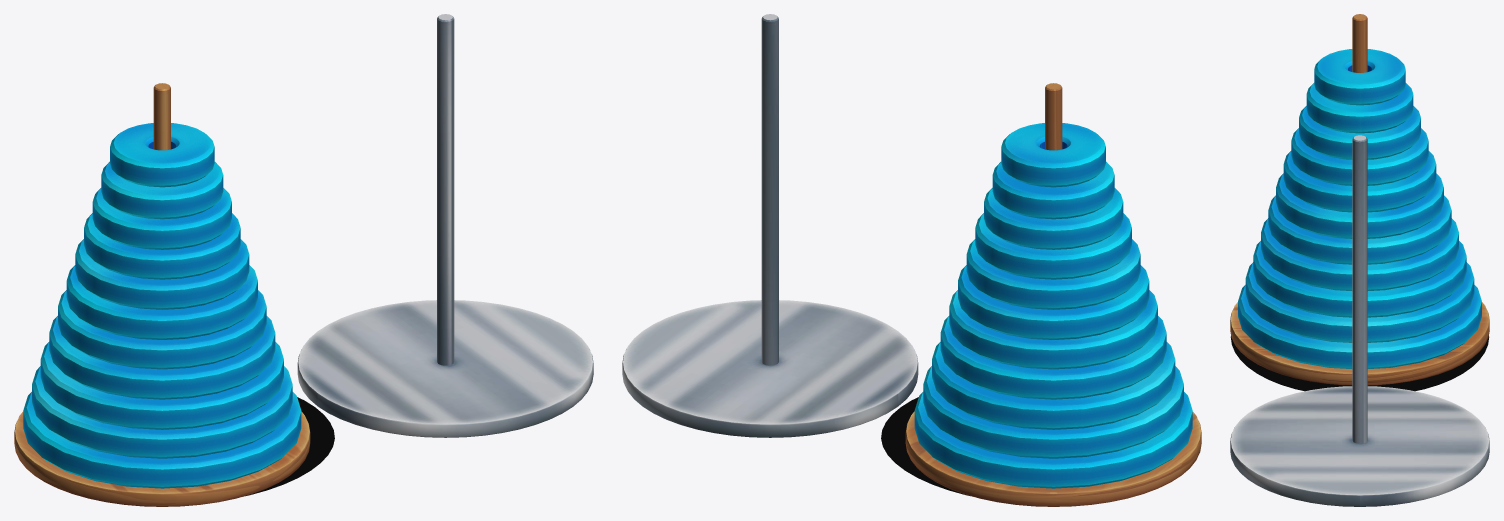
Rendered from stack.fbx.
The picture shows the model from 3 angles, left to right: view 1: azimuth 30°, elevation 25°; view 2: azimuth 150°, elevation 25°; view 3: azimuth 270°, elevation 25°; orthographic projection. The views are drawn at different scales.
Visible parts, largest first — view 1: post_gold, disk_1, disk_2, disk_3, post, disk_4, disk_5, disk_6, disk_7, disk_11, disk_8, disk_9 (+2 smaller); view 2: post_gold, disk_1, disk_2, disk_3, post, disk_4, disk_5, disk_6, disk_7, disk_11, disk_8, disk_9 (+2 smaller); view 3: post_gold, disk_1, disk_2, post, disk_3, disk_4, disk_5, disk_6, disk_11, disk_7, disk_8, disk_10 (+2 smaller).
Part boxes in pixels (x1=…): post_gold: x1=297, y1=14, x2=593, y2=437; disk_1: x1=23, y1=392, x2=301, y2=488; disk_2: x1=32, y1=366, x2=292, y2=458; disk_3: x1=40, y1=342, x2=283, y2=429; post: x1=14, y1=83, x2=310, y2=506; disk_4: x1=49, y1=316, x2=275, y2=399; disk_5: x1=58, y1=290, x2=266, y2=369; disk_6: x1=66, y1=265, x2=257, y2=339; disk_7: x1=75, y1=239, x2=249, y2=309; disk_11: x1=110, y1=123, x2=214, y2=187; disk_8: x1=84, y1=213, x2=240, y2=279; disk_9: x1=92, y1=188, x2=231, y2=249; post_gold: x1=622, y1=14, x2=918, y2=437; disk_1: x1=914, y1=392, x2=1192, y2=488; disk_2: x1=923, y1=366, x2=1183, y2=458; disk_3: x1=932, y1=342, x2=1175, y2=429; post: x1=905, y1=83, x2=1201, y2=506; disk_4: x1=940, y1=316, x2=1166, y2=399; disk_5: x1=949, y1=290, x2=1157, y2=369; disk_6: x1=958, y1=265, x2=1149, y2=339; disk_7: x1=966, y1=239, x2=1140, y2=309; disk_11: x1=1001, y1=123, x2=1105, y2=187; disk_8: x1=975, y1=213, x2=1131, y2=279; disk_9: x1=984, y1=188, x2=1123, y2=249; post_gold: x1=1230, y1=135, x2=1489, y2=506; disk_1: x1=1238, y1=285, x2=1481, y2=368; disk_2: x1=1245, y1=262, x2=1474, y2=342; post: x1=1230, y1=14, x2=1489, y2=385; disk_3: x1=1253, y1=241, x2=1466, y2=317; disk_4: x1=1261, y1=218, x2=1458, y2=290; disk_5: x1=1268, y1=195, x2=1451, y2=264; disk_6: x1=1276, y1=173, x2=1443, y2=238; disk_11: x1=1314, y1=49, x2=1405, y2=105; disk_7: x1=1283, y1=151, x2=1436, y2=212; disk_8: x1=1291, y1=128, x2=1428, y2=185; disk_10: x1=1306, y1=83, x2=1413, y2=133.
Bounding box in the file's own units: 21.06 × 13.37 × 10.
